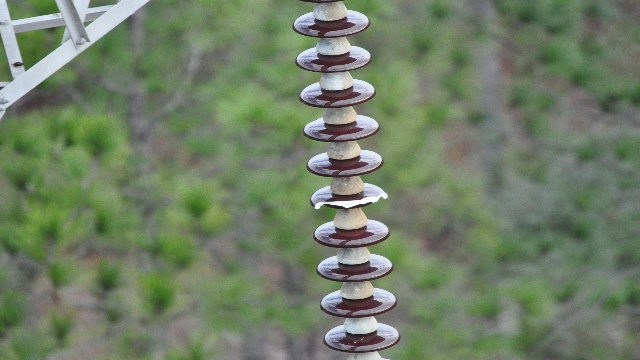broken_local: (315, 192, 390, 210)
insulator_unspecified: (292, 10, 401, 351)
